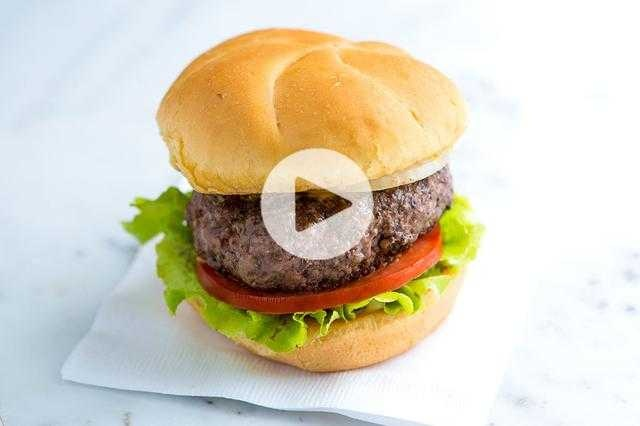hamburger: (154, 28, 484, 389)
